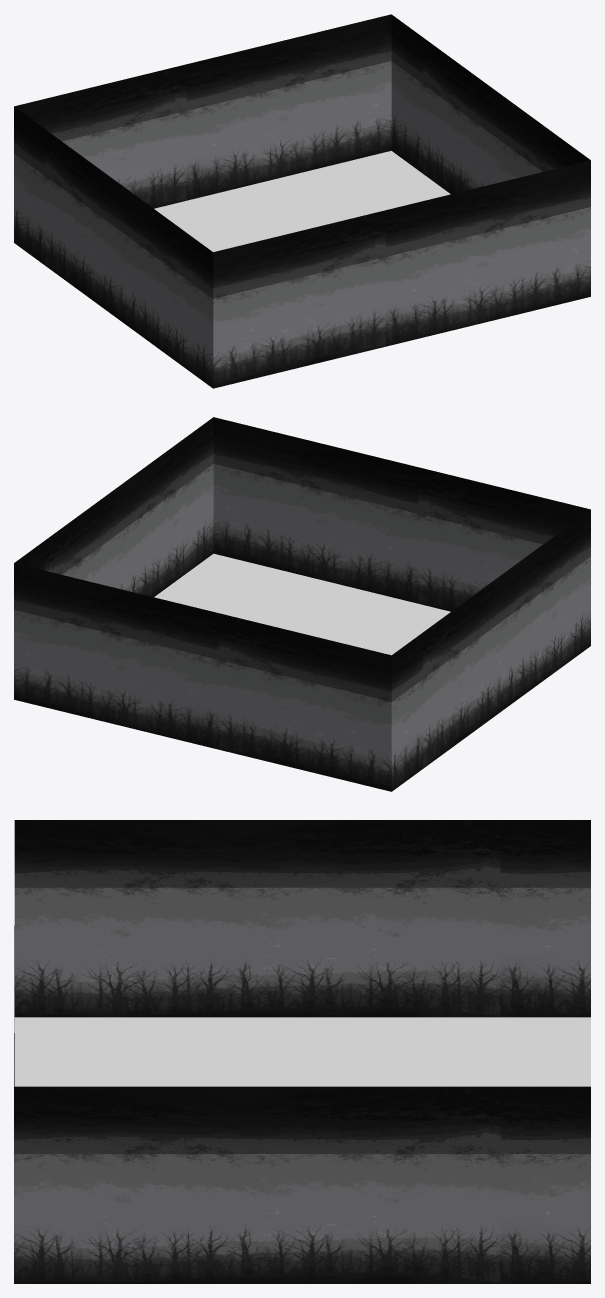
File: FondoConArboles.fbx
The picture shows the model from 3 angles, top to bottom: view 1: azimuth 30°, elevation 25°; view 2: azimuth 150°, elevation 25°; view 3: azimuth 270°, elevation 25°; orthographic projection. The views are drawn at different scales.
Parts seen in each view (by area): view 1: FondoConArboles; view 2: FondoConArboles; view 3: FondoConArboles.
Boxes of the visible parts, left/top/right/bottom form: FondoConArboles: left=14, top=14, right=590, bottom=388; FondoConArboles: left=14, top=417, right=590, bottom=791; FondoConArboles: left=14, top=820, right=590, bottom=1283.
Size of the model in its own units: 120 by 41.29 by 109.
2 materials, 1 textured.
